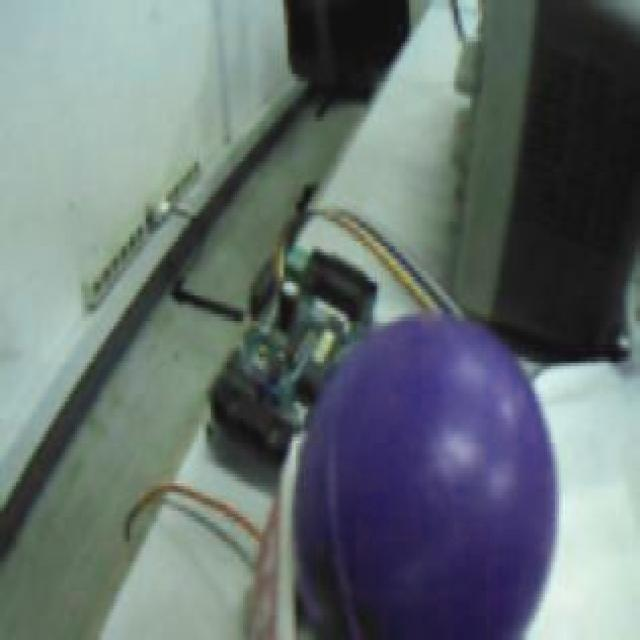BallPurple: (291, 307, 559, 640)
